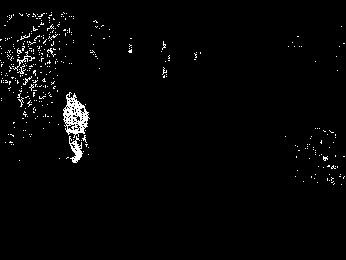person: (63, 92, 90, 163)
